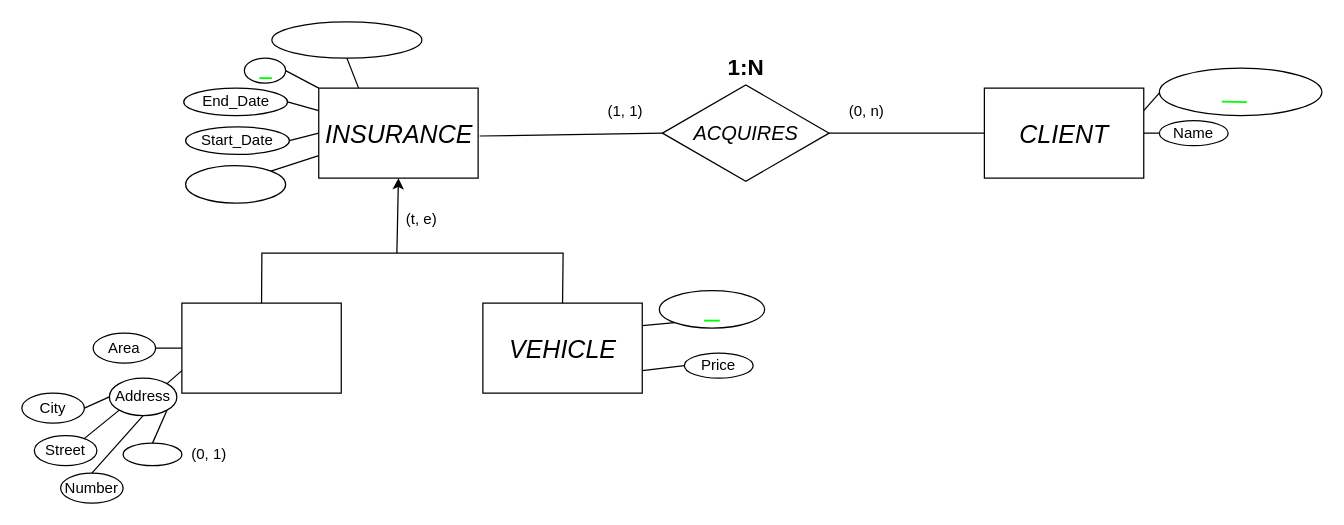
The diagram is 1344 pixels wide and 525 high, and some of its shapes have lost their labels. Each missing label, with the centre of its shape:
"Annual_Cost" goes at (235,183).
"ID" goes at (264,70).
"Id_Document_Number" goes at (1240,91).
"Percentaje_Covered" goes at (346,39).
"Plate_Number" goes at (711,308).
"PROPERTY" goes at (261,347).
"Unit" goes at (152,454).
